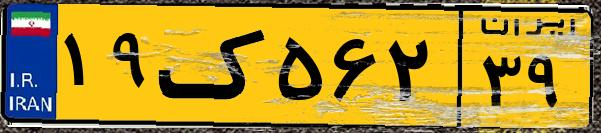1: (57, 26, 110, 100)
2: (385, 28, 445, 110)
3: (475, 38, 525, 113)
5: (270, 28, 330, 110)
6: (330, 28, 385, 110)
9: (525, 38, 570, 115), (110, 28, 158, 98)
ک: (158, 12, 270, 120)
